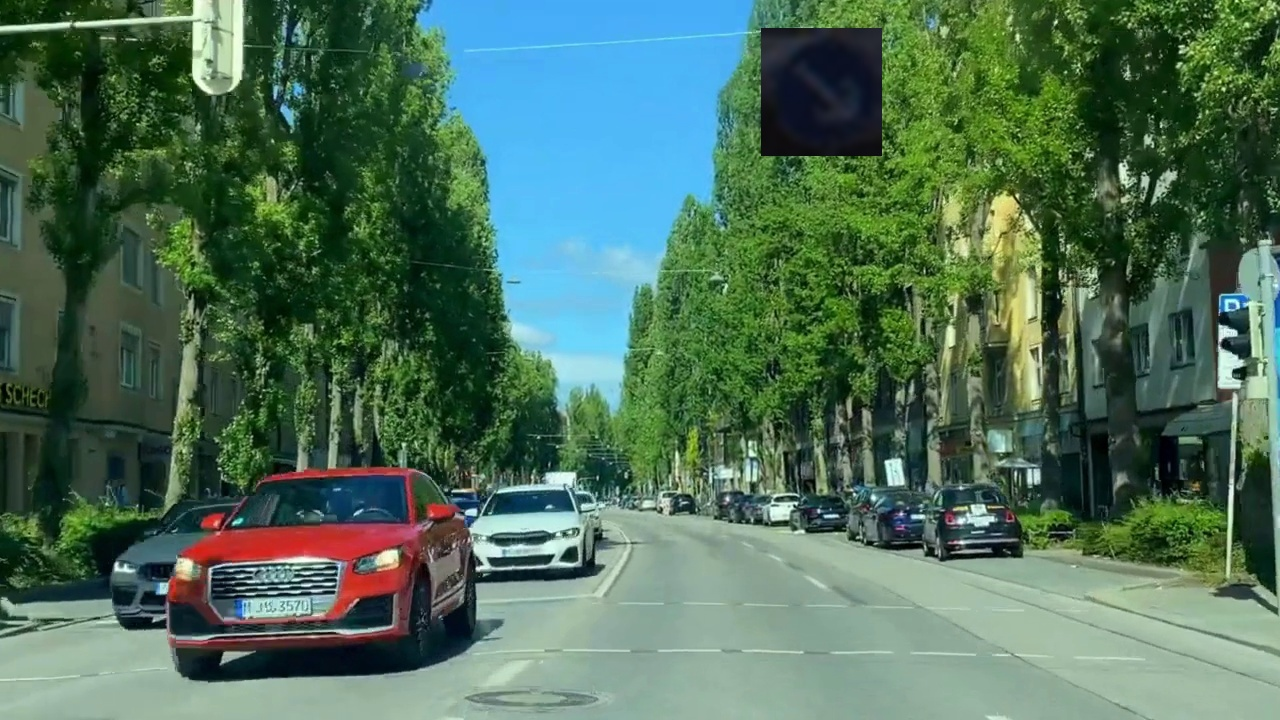Keep right: (761, 28, 882, 156)
